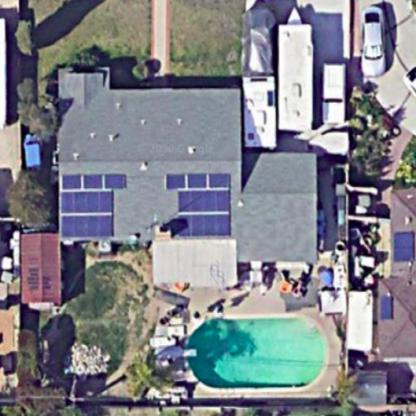car: (275, 18, 322, 136), (355, 2, 397, 86), (320, 52, 349, 141)
solar_panel: (158, 167, 236, 243), (56, 165, 132, 241), (388, 225, 416, 270), (375, 288, 396, 324)
swimming_pool: (179, 300, 339, 398)
